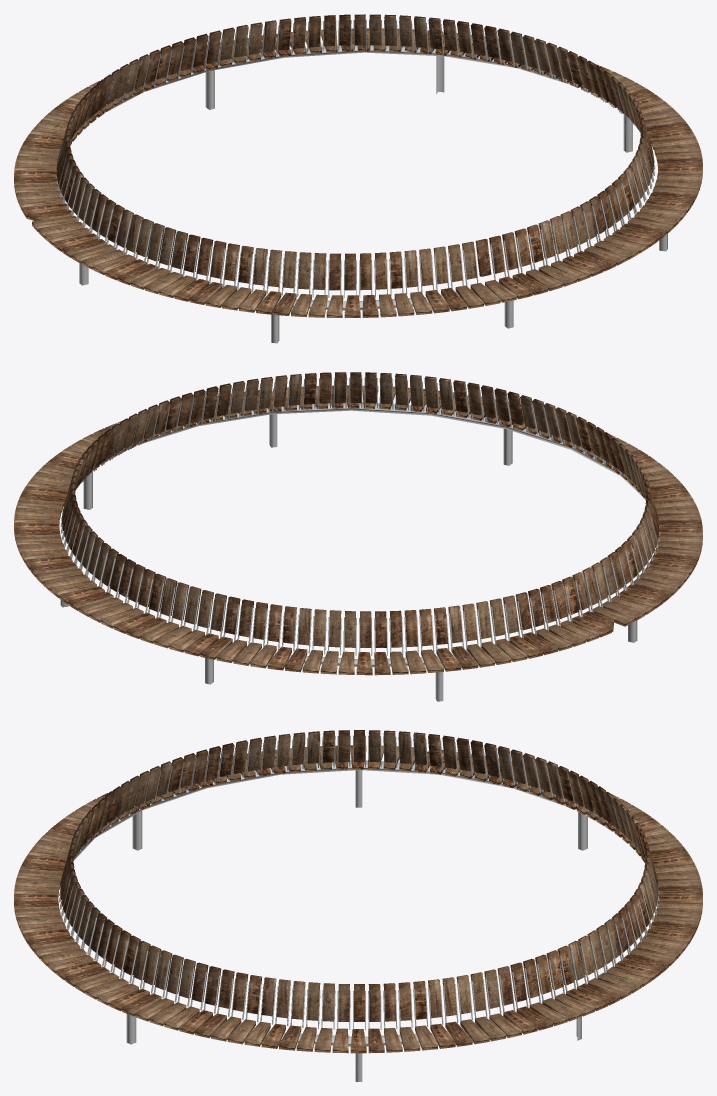
The model's file is sitzbank_baum_01.fbx.
3 views of the same model, one above another, from view 1: azimuth 30°, elevation 25°; view 2: azimuth 150°, elevation 25°; view 3: azimuth 270°, elevation 25° (orthographic). The views are drawn at different scales.
Parts seen in each view (by area): view 1: Mesh; view 2: Mesh; view 3: Mesh.
Part boxes in pixels (x1,y1,x2,y2): Mesh: [14, 14, 702, 343]; Mesh: [14, 372, 702, 701]; Mesh: [14, 730, 702, 1081].
Bounding box in the file's own units: 604 × 79.21 × 580.
